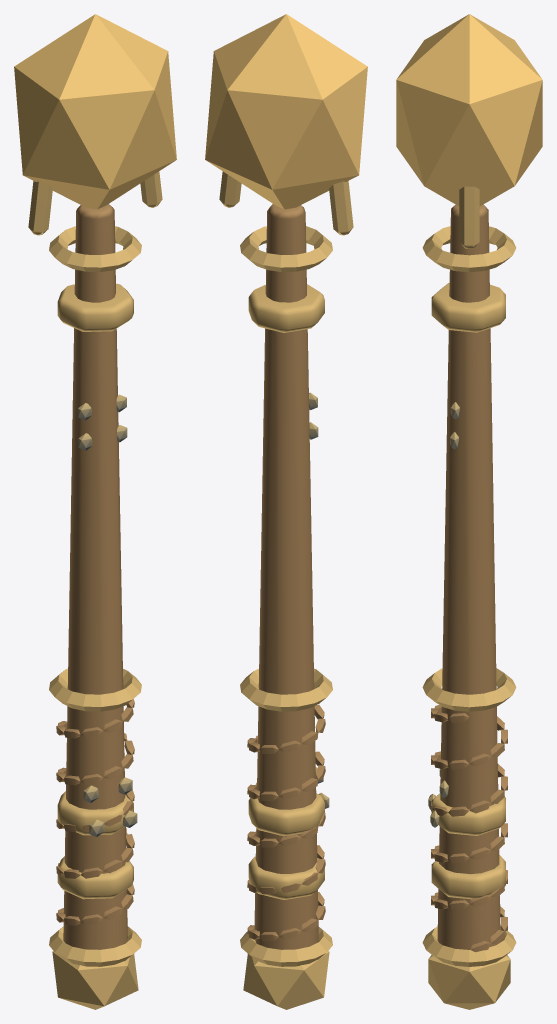
File: varita_ambar_t2.glb
The picture shows the model from 3 angles, left to right: view 1: azimuth 30°, elevation 25°; view 2: azimuth 150°, elevation 25°; view 3: azimuth 270°, elevation 25°; orthographic projection.
Visible parts, largest first — view 1: varita_ambar_t2_finished; view 2: varita_ambar_t2_finished; view 3: varita_ambar_t2_finished.
Boxes of the visible parts, x1=… form: varita_ambar_t2_finished: x1=14, y1=14, x2=176, y2=1009; varita_ambar_t2_finished: x1=205, y1=14, x2=367, y2=1009; varita_ambar_t2_finished: x1=396, y1=14, x2=542, y2=1009.
Size of the model in its own units: 0.1546 by 1.01 by 0.1347.
4 materials, 1 textured.
